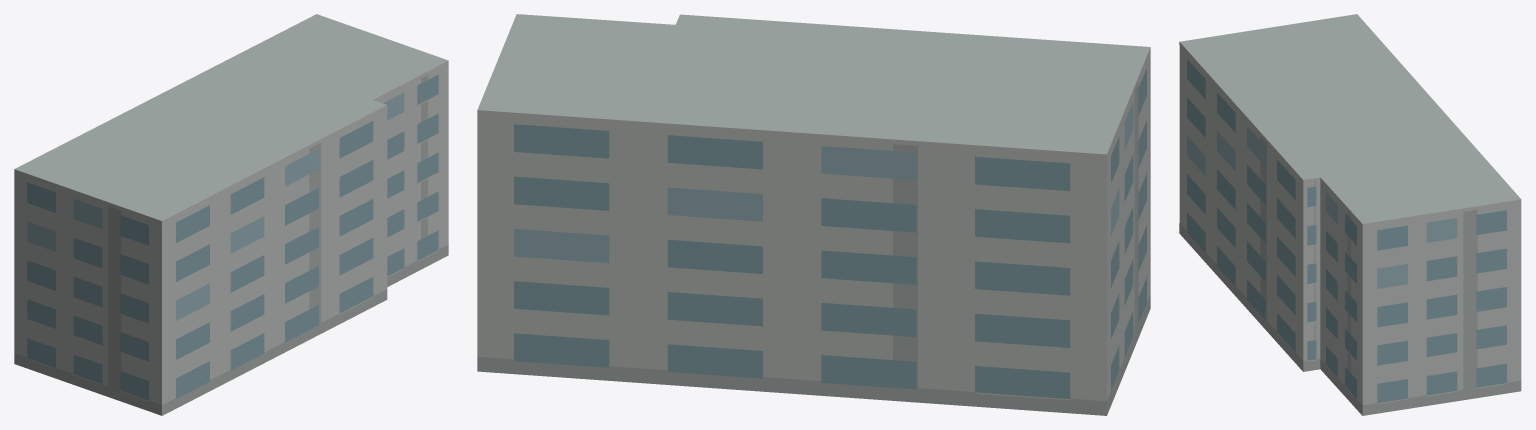
File: survey-upis-32832807.glb
3 views of the same model, side by side, from view 1: azimuth 30°, elevation 25°; view 2: azimuth 150°, elevation 25°; view 3: azimuth 270°, elevation 25° (orthographic). The views are drawn at different scales.
Parts seen in each view (by area): view 1: survey-upis-32832807.tmp; view 2: survey-upis-32832807.tmp; view 3: survey-upis-32832807.tmp.
Part boxes in pixels (left/top/right/bottom): survey-upis-32832807.tmp: left=14, top=14, right=448, bottom=415; survey-upis-32832807.tmp: left=477, top=14, right=1150, bottom=415; survey-upis-32832807.tmp: left=1179, top=14, right=1521, bottom=415.
Size of the model in its own units: 31.95 by 13.6 by 21.97.
